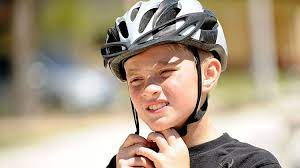helmets: (99, 0, 228, 85)
